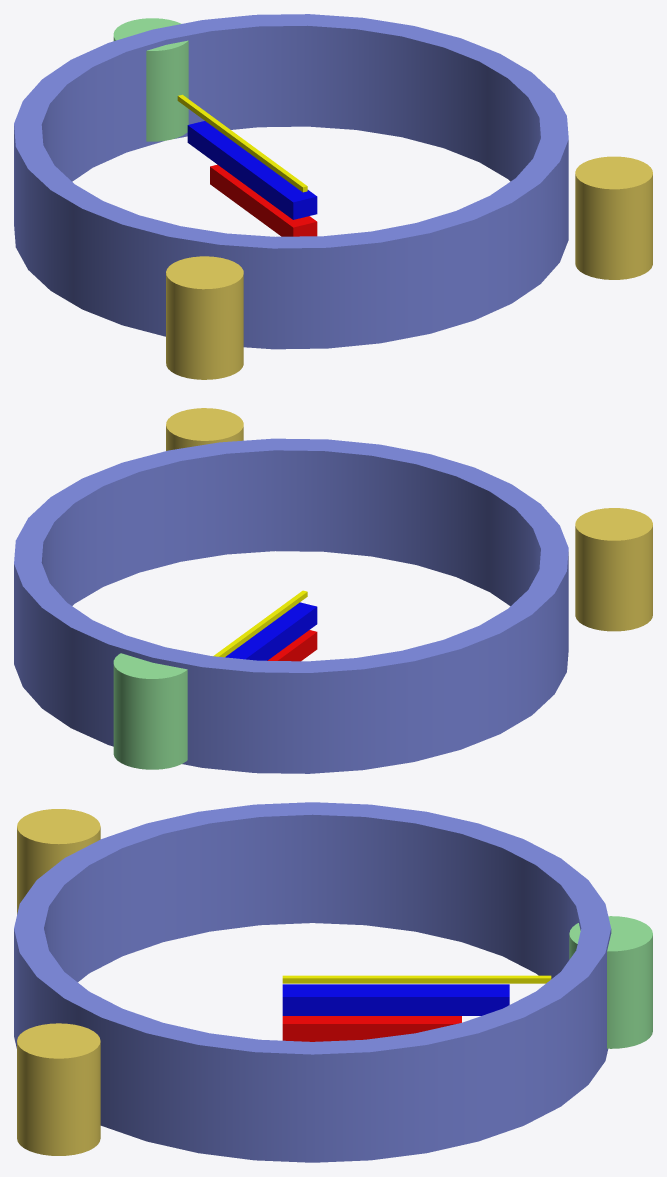
File: SoklongClock.fbx
3 renders of one model, top to bottom at view 1: azimuth 30°, elevation 25°; view 2: azimuth 150°, elevation 25°; view 3: azimuth 270°, elevation 25°, orthographic. The views are drawn at different scales.
Parts seen in each view (by area): view 1: BaseDonut, SoklongLegL, SoklongLegR, SoklongMarkTop, SoklongMinute, SoklongHour, SoklongSecond; view 2: BaseDonut, SoklongLegL, SoklongMarkTop, SoklongLegR, SoklongMinute, SoklongSecond, SoklongHour; view 3: BaseDonut, SoklongLegR, SoklongMinute, SoklongMarkTop, SoklongLegL, SoklongHour, SoklongSecond.
Part boxes in pixels (box(x1,y1,x2,y2)): BaseDonut: box(14, 14, 568, 349); SoklongLegL: box(166, 256, 243, 379); SoklongLegR: box(575, 156, 652, 279); SoklongMarkTop: box(113, 18, 188, 141); SoklongMinute: box(187, 121, 317, 219); SoklongHour: box(210, 164, 317, 236); SoklongSecond: box(177, 94, 307, 192); BaseDonut: box(14, 438, 568, 773); SoklongLegL: box(575, 508, 652, 631); SoklongMarkTop: box(113, 648, 187, 769); SoklongLegR: box(166, 408, 243, 450); SoklongMinute: box(225, 602, 317, 660); SoklongSecond: box(213, 590, 307, 657); SoklongHour: box(267, 630, 317, 661); BaseDonut: box(14, 802, 611, 1162); SoklongLegR: box(17, 1023, 100, 1155); SoklongMinute: box(282, 984, 509, 1015); SoklongMarkTop: box(569, 916, 652, 1048); SoklongLegL: box(17, 809, 100, 914); SoklongHour: box(282, 1016, 461, 1041); SoklongSecond: box(282, 975, 551, 983).
Bounding box in the file's own units: 200 × 40 × 214.
